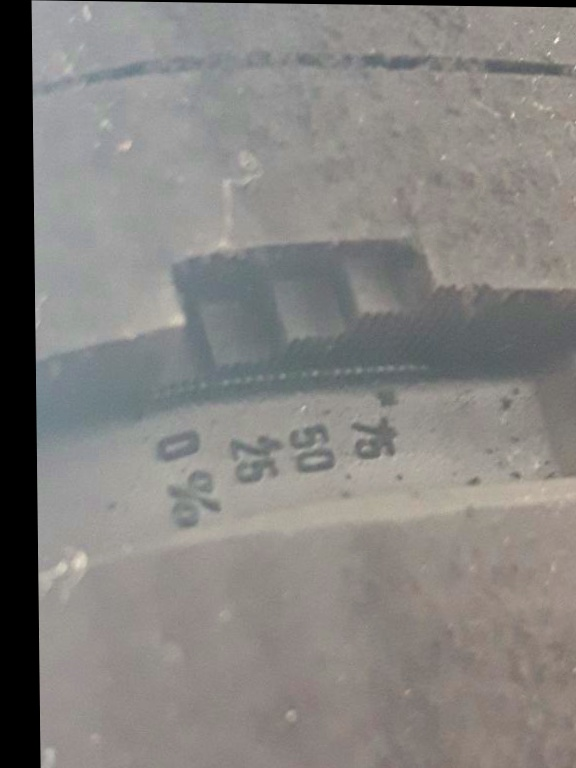temoin:95: (135, 214, 501, 431)
